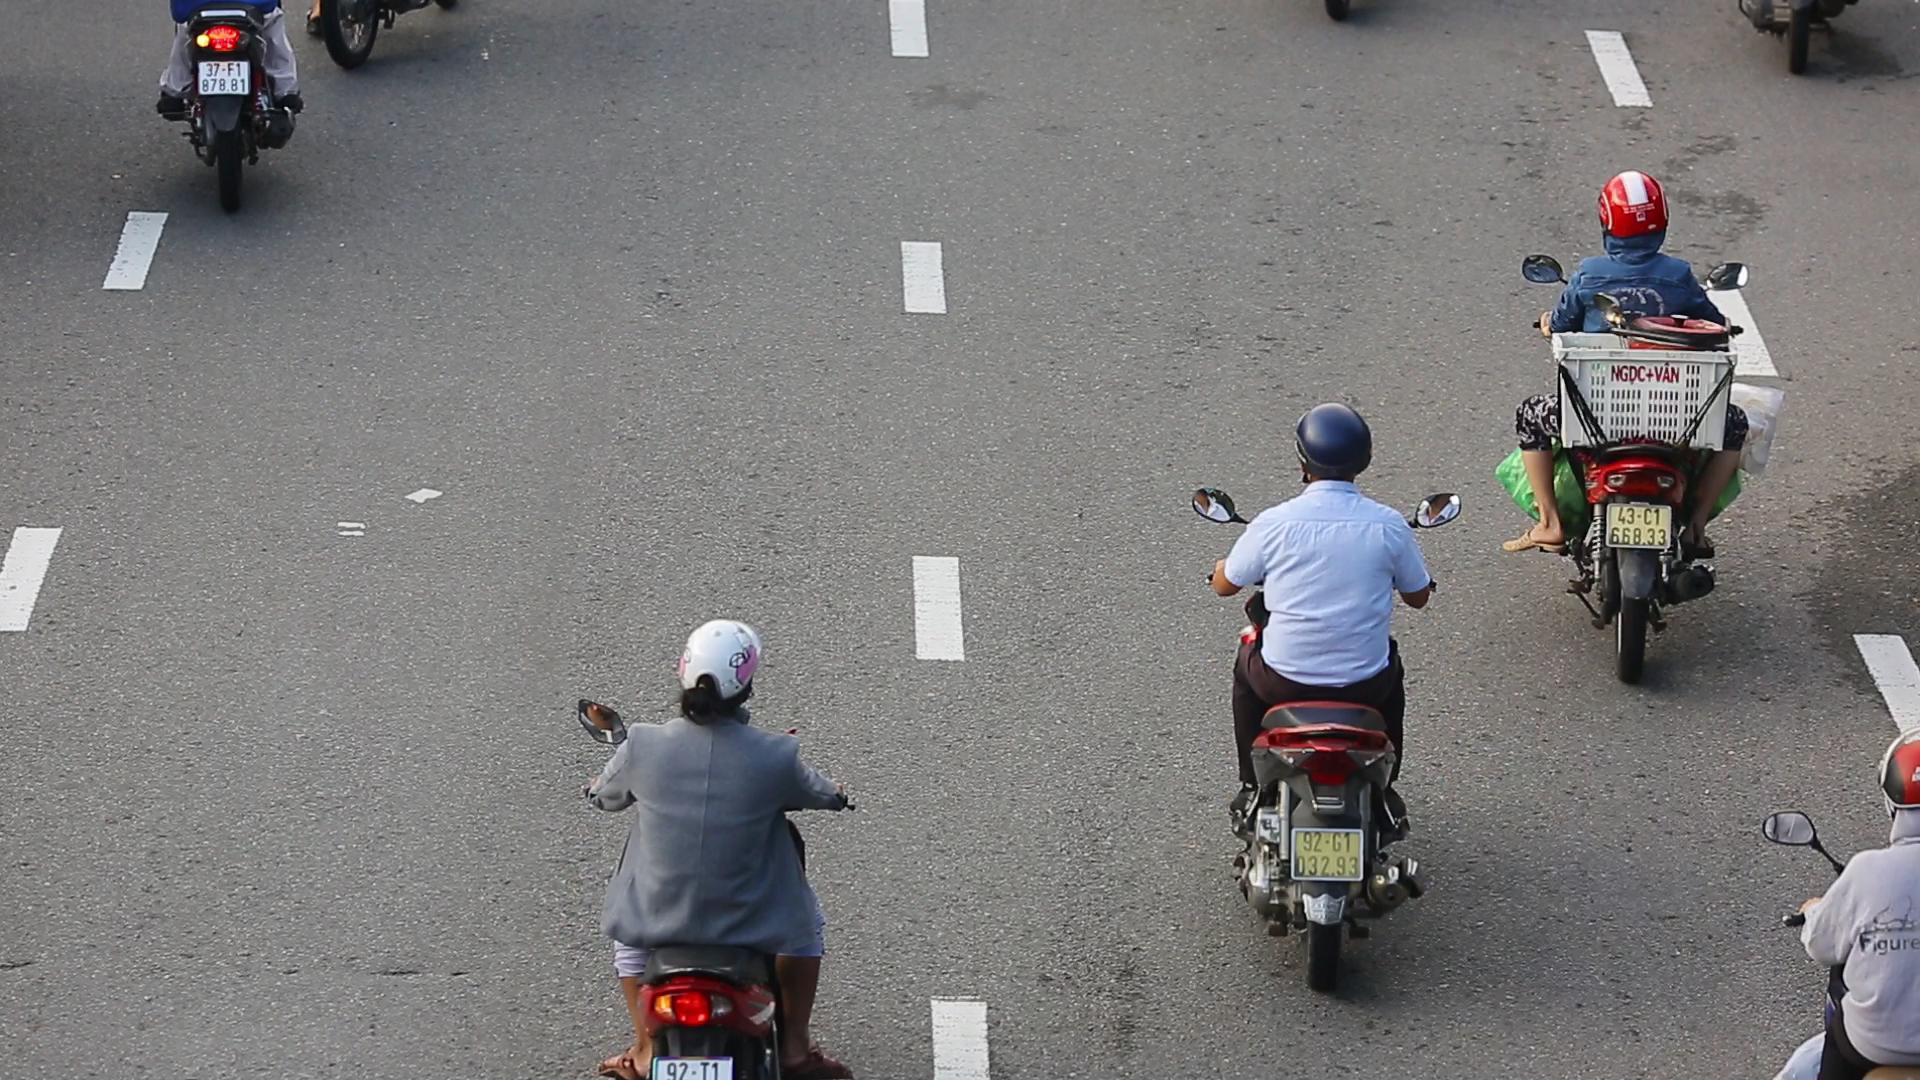motobike: (1189, 404, 1469, 1010)
